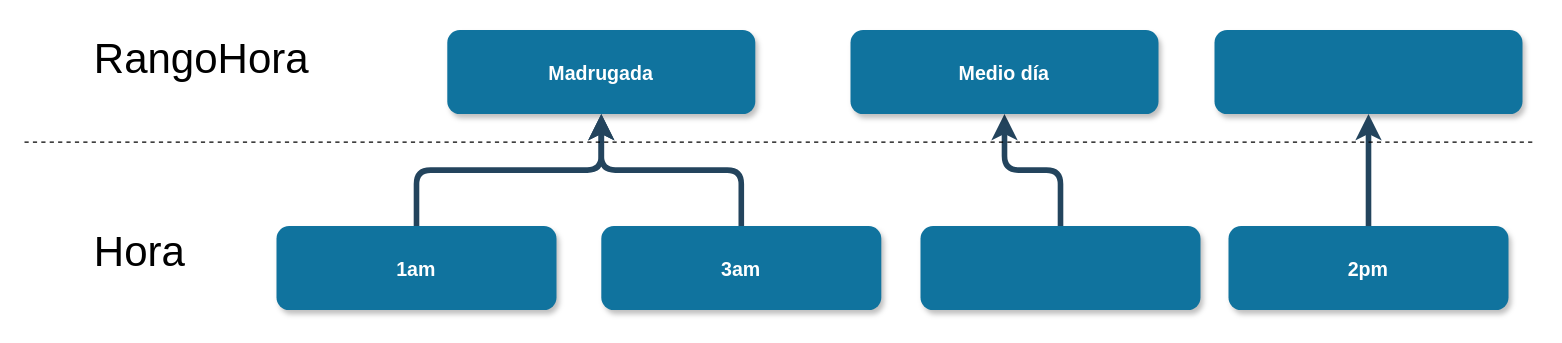
This 1562x343 diagram has some shape labels left out. The shapes that lost their labels are listed below. From the top down, each one's centre as x and y in pixels, then its label:
the point at 1369,73: Tarde
the point at 1061,269: 12pm
